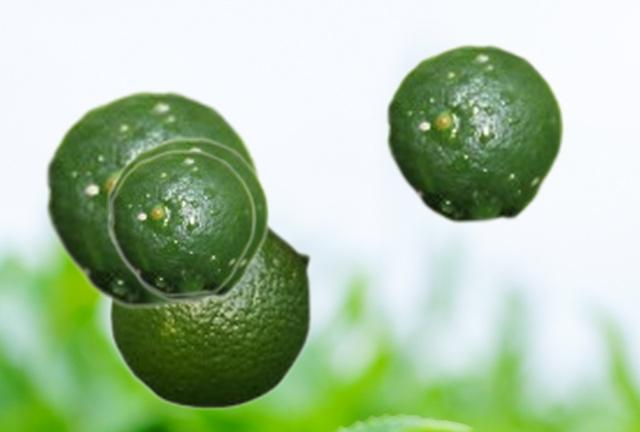calamansi: (43, 88, 261, 310), (108, 220, 313, 410), (384, 42, 565, 225), (106, 136, 270, 302), (109, 148, 256, 297)
